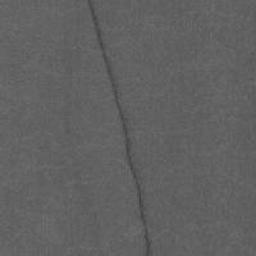Inclusion: (86, 0, 154, 256)
